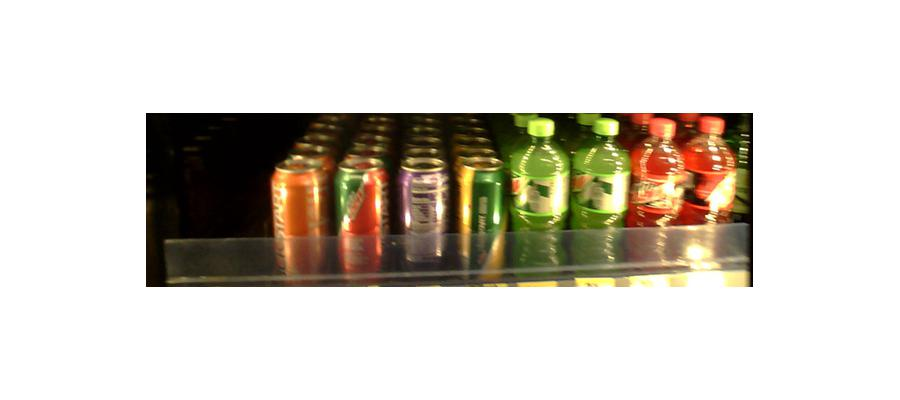bottle: (684, 112, 741, 273), (508, 119, 567, 272), (570, 118, 626, 269), (270, 144, 333, 274), (630, 117, 682, 262), (397, 152, 452, 270), (456, 150, 507, 274), (336, 156, 388, 271)
